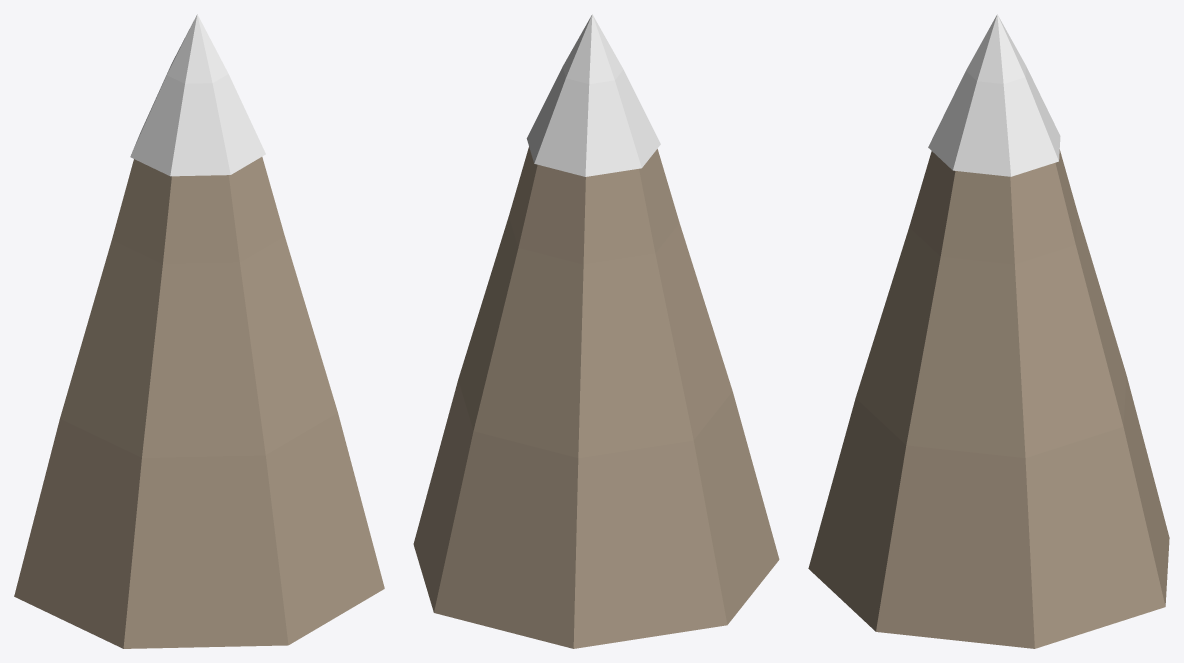
File: shared-peak.glb
The picture shows the model from 3 angles, left to right: view 1: azimuth 30°, elevation 25°; view 2: azimuth 150°, elevation 25°; view 3: azimuth 270°, elevation 25°; orthographic projection.
Parts seen in each view (by area): view 1: shared-peak; view 2: shared-peak; view 3: shared-peak.
Part boxes in pixels (x1,y1,x2,y2): shared-peak: (14,14,384,648); shared-peak: (413,14,779,648); shared-peak: (808,14,1169,648).
Bounding box in the file's own units: 1.17 × 1.95 × 1.15.
